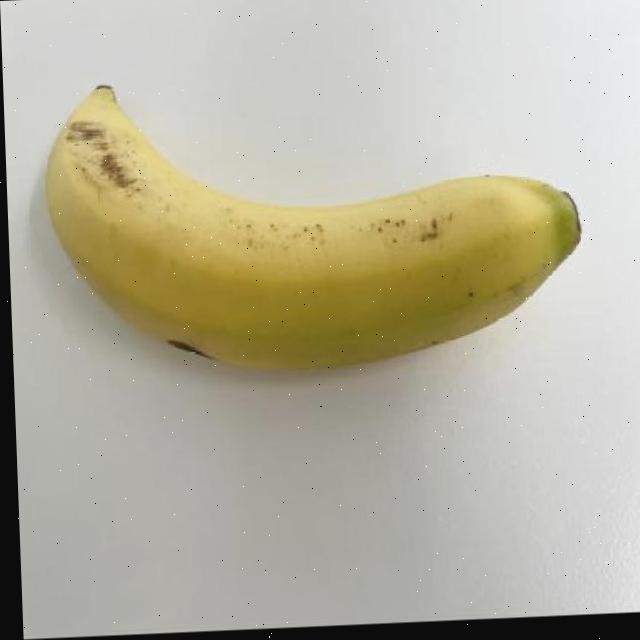banana: (36, 53, 597, 395)
